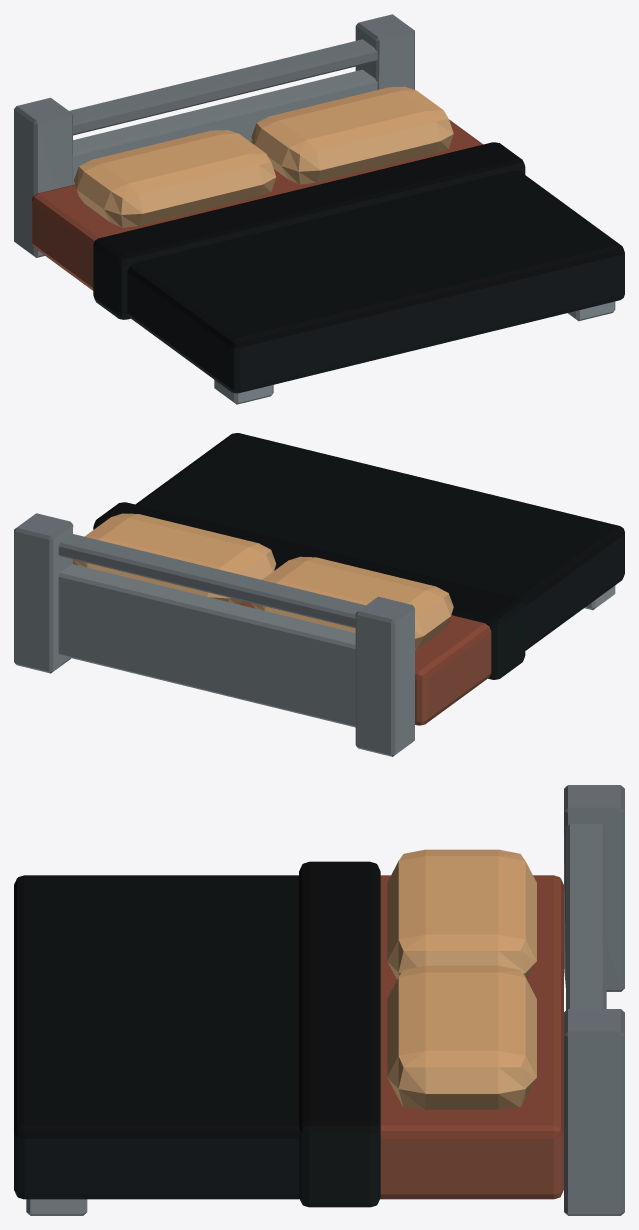
File: kk_bed_double_A.obj
3 views of the same model, one above another, from view 1: azimuth 30°, elevation 25°; view 2: azimuth 150°, elevation 25°; view 3: azimuth 270°, elevation 25° (orthographic). The views are drawn at different scales.
Bounding box in the file's own units: 3.1 × 1 × 3.
